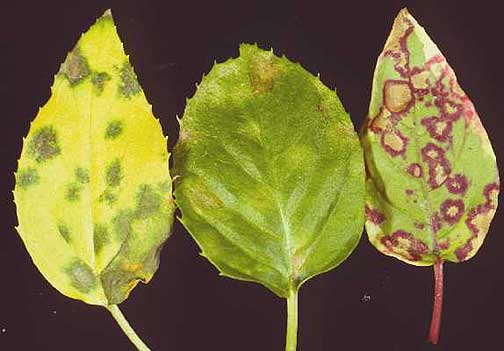unhealthy: (14, 21, 176, 315), (359, 30, 493, 297)
